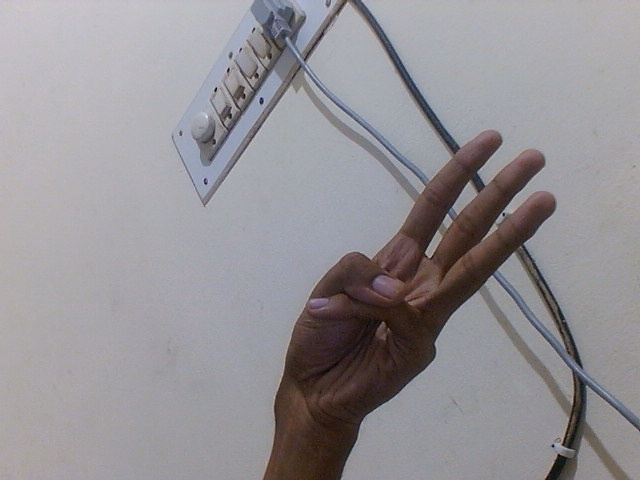hand: (275, 123, 564, 436)
